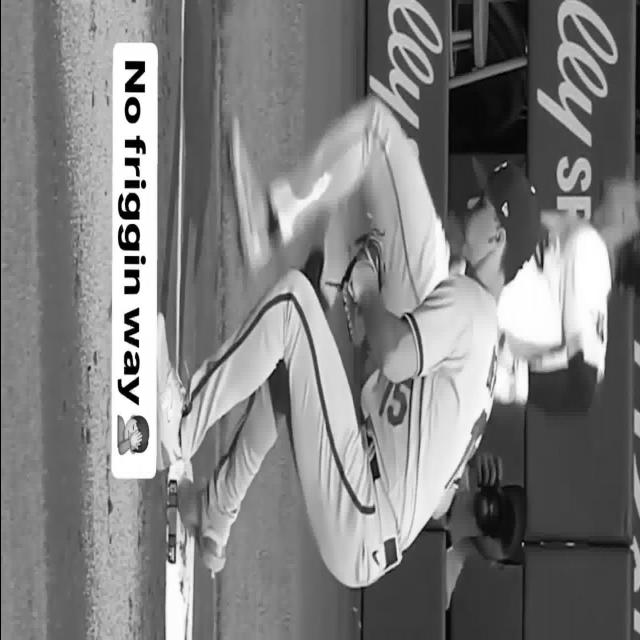base: (164, 460, 194, 640)
baseball_glove: (339, 229, 384, 347)
shoe: (228, 118, 271, 271), (156, 313, 185, 471), (176, 482, 225, 573)
